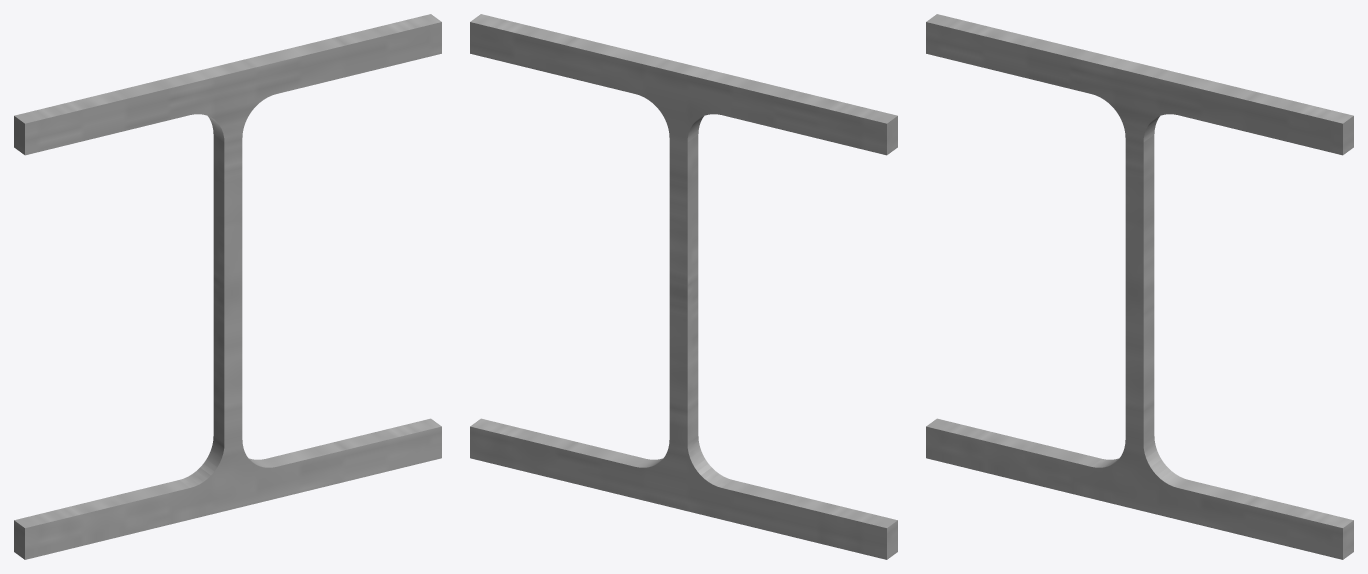
File: HEB220.glb
3 renders of one model, left to right at view 1: azimuth 30°, elevation 25°; view 2: azimuth 150°, elevation 25°; view 3: azimuth 330°, elevation 25°, orthographic.
Size of the model in its own units: 22 by 22 by 1.
1 material, 1 textured.
